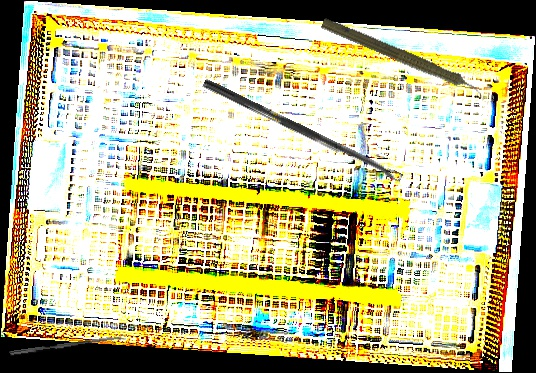Handpiece: (317, 15, 491, 104)
Surgical Spoon: (201, 78, 404, 184), (9, 334, 126, 357)
